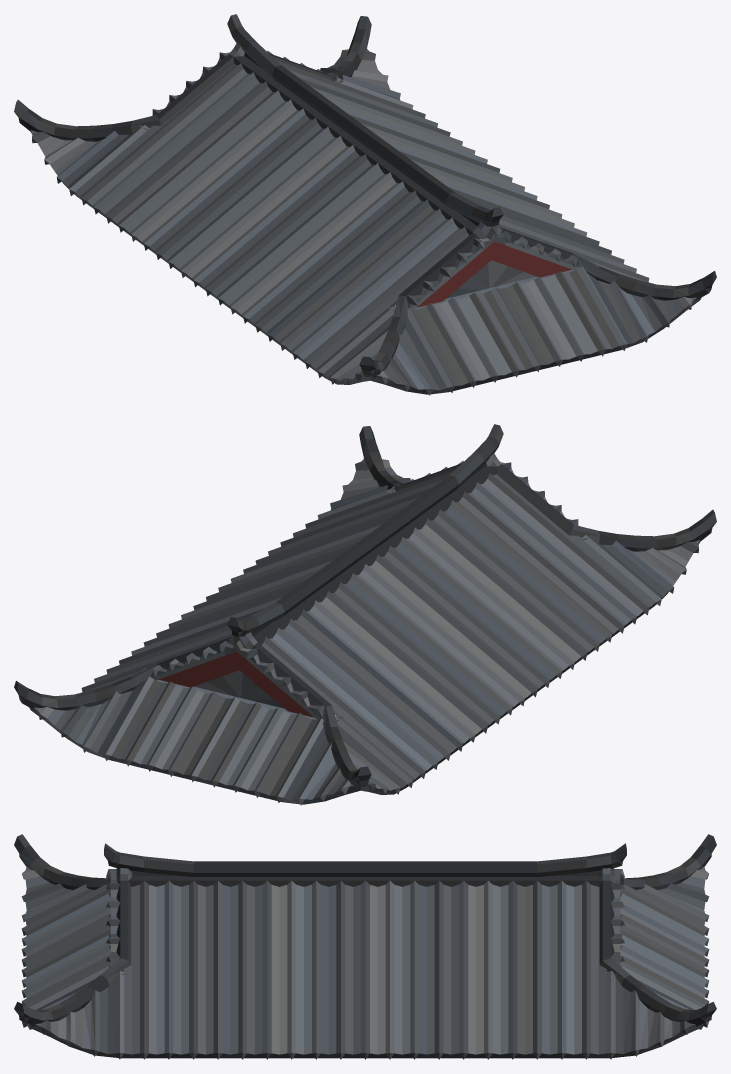
The model's file is BuildingA-Ext_Roof.fbx.
3 renders of one model, top to bottom at view 1: azimuth 30°, elevation 25°; view 2: azimuth 150°, elevation 25°; view 3: azimuth 270°, elevation 25°, orthographic.
Parts seen in each view (by area): view 1: BuildingA-Ext_Roof; view 2: BuildingA-Ext_Roof; view 3: BuildingA-Ext_Roof.
Part boxes in pixels (<box>): BuildingA-Ext_Roof: <box>14,14,716,395</box>; BuildingA-Ext_Roof: <box>14,424,716,805</box>; BuildingA-Ext_Roof: <box>14,834,716,1059</box>.
Size of the model in its own units: 1039 by 376 by 1789.
